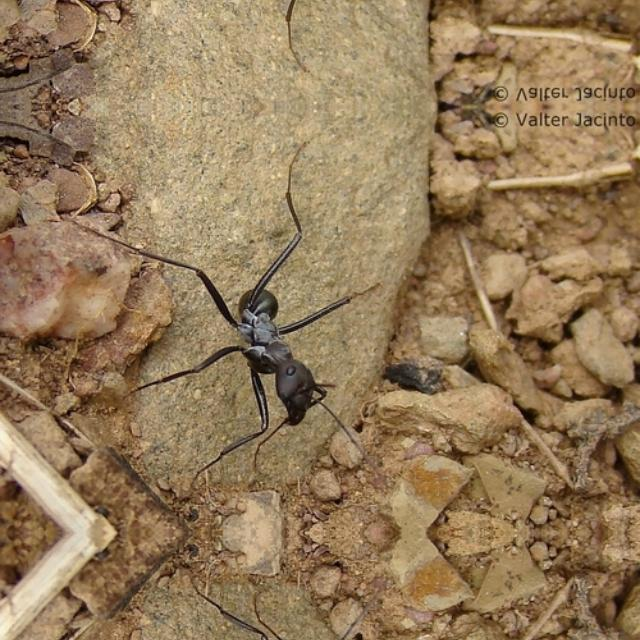Cataglyphis: (172, 254, 368, 440)
